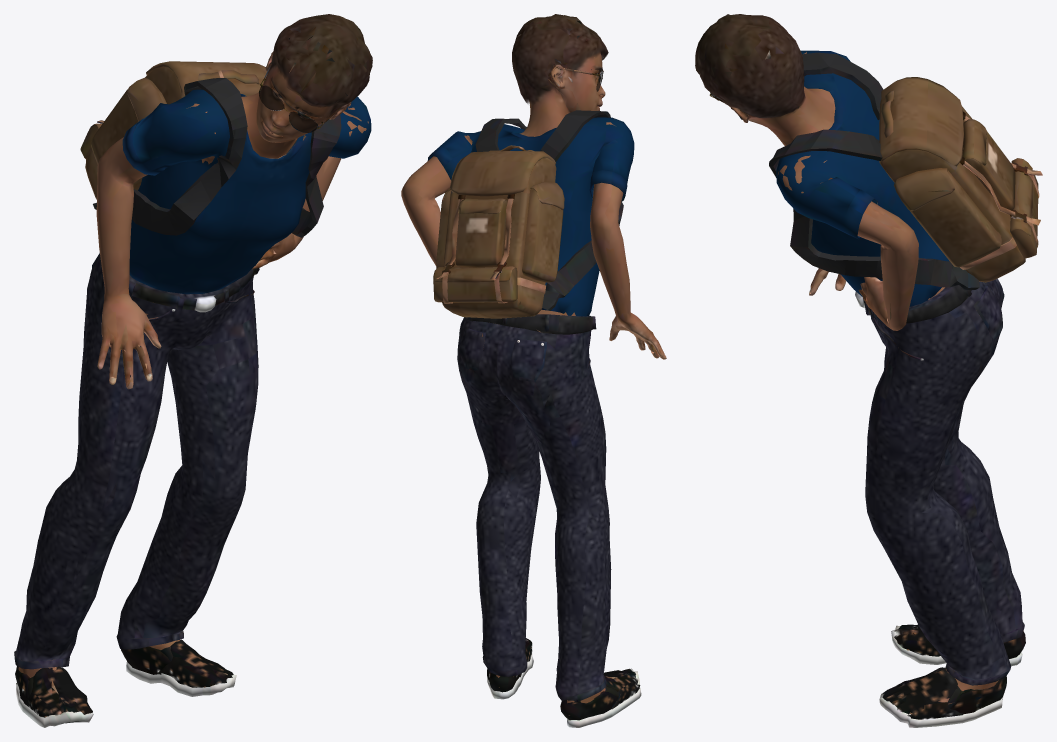
The picture shows the model from 3 angles, left to right: view 1: azimuth 30°, elevation 25°; view 2: azimuth 150°, elevation 25°; view 3: azimuth 270°, elevation 25°; orthographic projection. The views are drawn at different scales.
Parts seen in each view (by area): view 1: mhbagv3_w006; view 2: mhbagv3_w006; view 3: mhbagv3_w006.
Part boxes in pixels (left/top/right/bottom): mhbagv3_w006: left=14, top=14, right=372, bottom=727; mhbagv3_w006: left=401, top=14, right=666, bottom=727; mhbagv3_w006: left=695, top=14, right=1042, bottom=727.
Size of the model in its own units: 0.7183 by 1.67 by 0.7298.
Materials: 1 (1 with a texture image).
